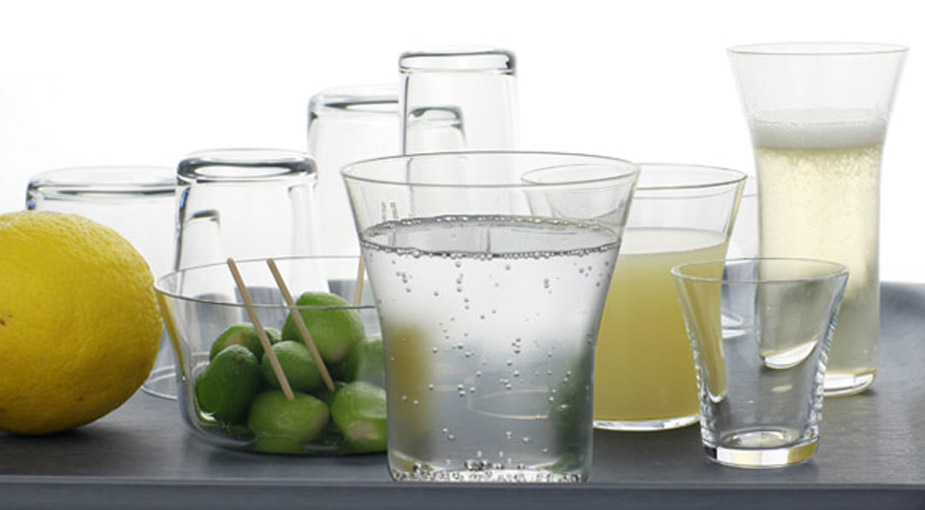Nonrec_Glass: (330, 142, 639, 485), (721, 30, 904, 397), (518, 150, 746, 442), (666, 249, 855, 476), (289, 63, 422, 275), (391, 39, 537, 220), (164, 132, 324, 267)
Organik: (1, 210, 167, 449), (191, 302, 385, 441)
